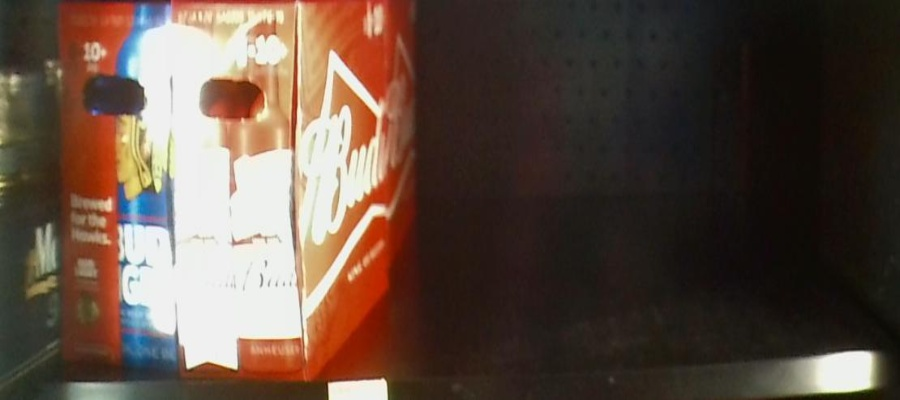bottle: (62, 1, 415, 357)
